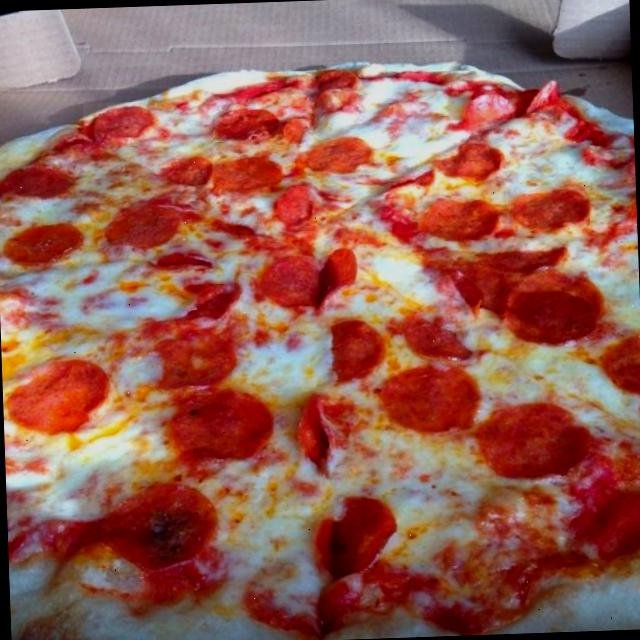pepperoni: (456, 241, 606, 350), (110, 482, 213, 576), (479, 398, 588, 486), (5, 352, 109, 437), (379, 360, 484, 442), (138, 312, 236, 393), (172, 389, 270, 462), (258, 247, 358, 314), (319, 494, 394, 580), (8, 515, 113, 561), (386, 311, 479, 362), (324, 314, 384, 392), (199, 150, 286, 200), (110, 194, 190, 248), (414, 194, 496, 246), (297, 134, 391, 177), (212, 108, 308, 149), (504, 187, 590, 232), (298, 394, 342, 478), (82, 100, 158, 148), (0, 161, 73, 206), (605, 324, 640, 417), (5, 224, 80, 267), (305, 70, 359, 124), (271, 188, 334, 234), (442, 136, 504, 182), (182, 277, 234, 325), (370, 93, 430, 132), (162, 150, 212, 190), (156, 250, 216, 274)
pizza: (0, 59, 640, 640)
